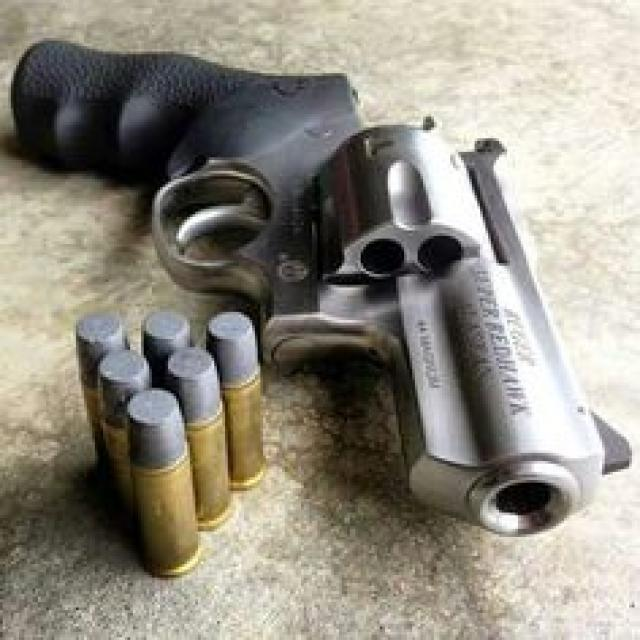revolver: (3, 11, 640, 591)
